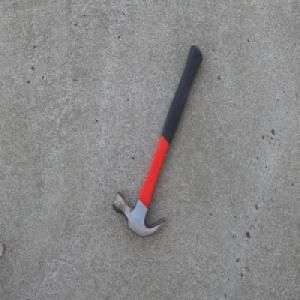Hammer: (111, 43, 203, 239)
